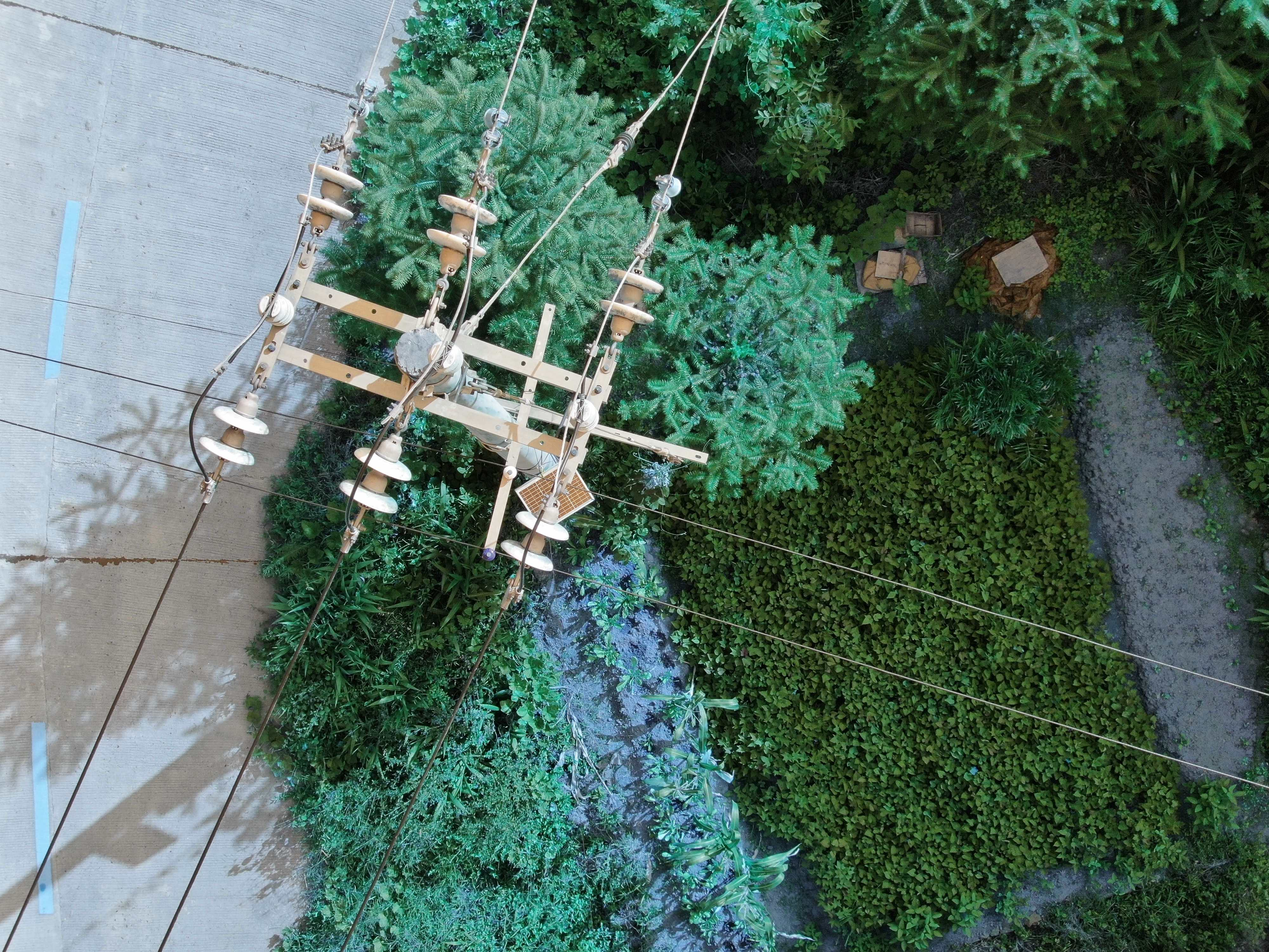severe_soiling_no_discharge_whole: (340, 432, 417, 520), (424, 190, 499, 278), (198, 392, 276, 471), (294, 160, 365, 235), (598, 265, 664, 339), (257, 292, 295, 328)
